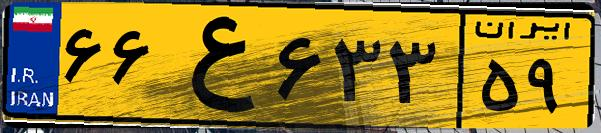3: (385, 28, 445, 110), (330, 28, 385, 110)
5: (475, 38, 525, 113)
6: (270, 28, 330, 110), (57, 26, 110, 100), (110, 28, 158, 98)
9: (525, 38, 570, 115)
ع: (158, 12, 270, 120)
